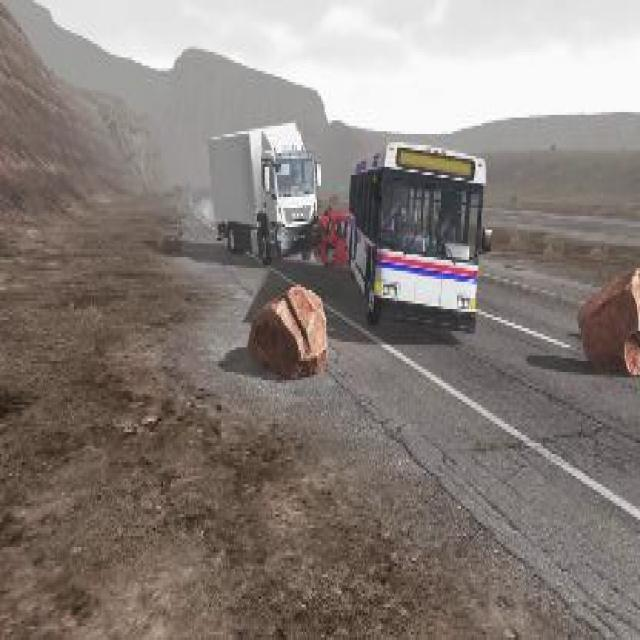accident: (197, 112, 494, 342)
